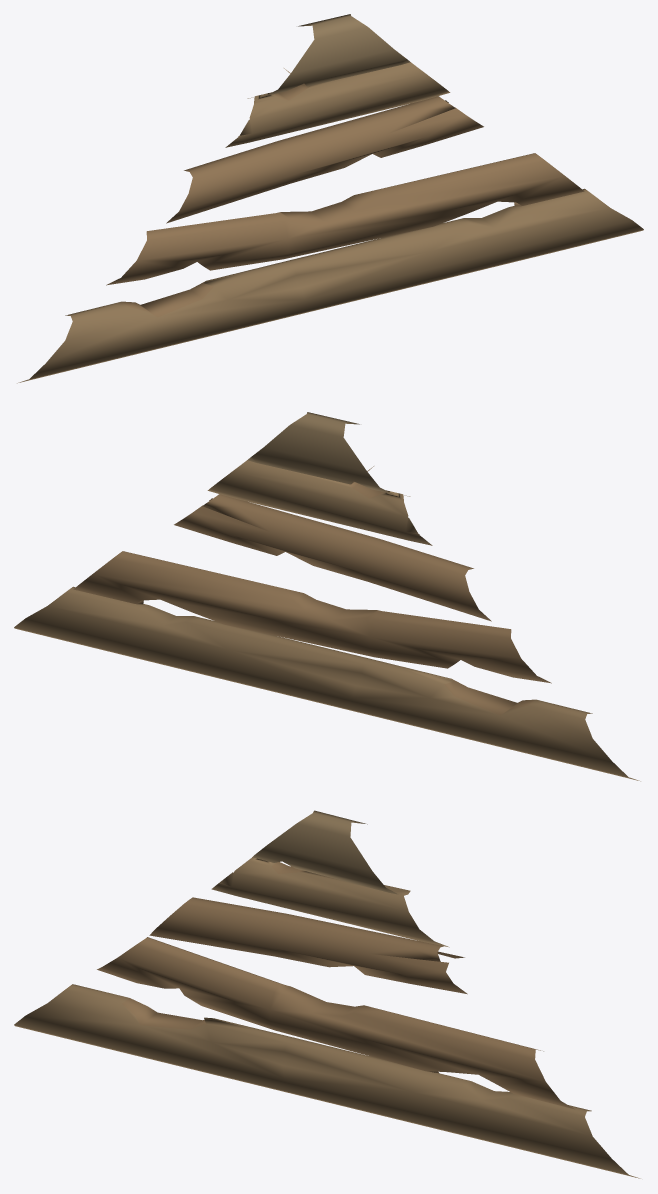
File: rpgpp_av_roof_end_01_6x3_wall_03a.gltf
3 renders of one model, top to bottom at view 1: azimuth 30°, elevation 25°; view 2: azimuth 150°, elevation 25°; view 3: azimuth 330°, elevation 25°, orthographic.
Visible parts, largest first — view 1: rpgpp_av_roof_end_01_6x3_wall_03a; view 2: rpgpp_av_roof_end_01_6x3_wall_03a; view 3: rpgpp_av_roof_end_01_6x3_wall_03a.
Part boxes in pixels (left/top/right/bottom): rpgpp_av_roof_end_01_6x3_wall_03a: left=17, top=14, right=643, bottom=383; rpgpp_av_roof_end_01_6x3_wall_03a: left=14, top=412, right=640, bottom=781; rpgpp_av_roof_end_01_6x3_wall_03a: left=14, top=810, right=640, bottom=1178.
Size of the model in its own units: 0.0681 by 0.0296 by 0.00434.
1 material, 1 textured.
